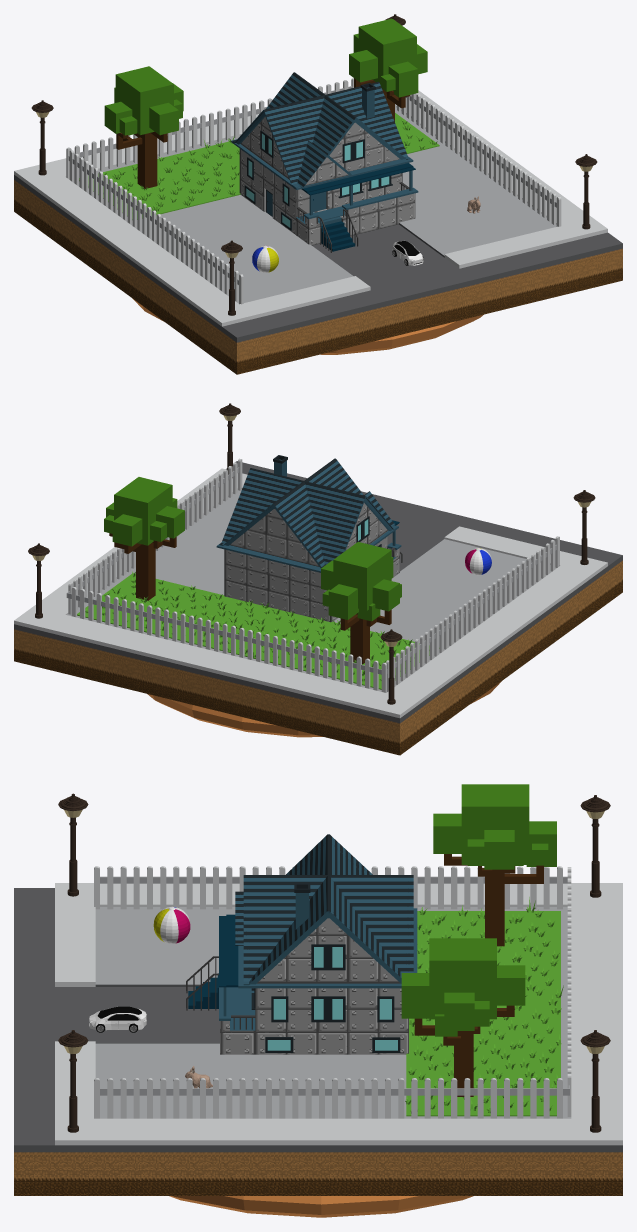
3 views of the same model, one above another, from view 1: azimuth 30°, elevation 25°; view 2: azimuth 150°, elevation 25°; view 3: azimuth 270°, elevation 25° (orthographic). The views are drawn at different scales.
Visible parts, largest first — view 1: Cube.004, Cube.078, UNDERGROUND_PIZZA, OBJRANDOM_BEACHBALL, VEHICLES_TESLA; view 2: Cube.004, Cube.078, UNDERGROUND_PIZZA, OBJRANDOM_BEACHBALL; view 3: Cube.004, Cube.078, UNDERGROUND_PIZZA, VEHICLES_TESLA, OBJRANDOM_BEACHBALL.
Boxes of the visible parts, x1,y1,x2,y2 form: Cube.004: (14, 14, 622, 374); Cube.078: (231, 72, 418, 252); UNDERGROUND_PIZZA: (132, 298, 483, 354); OBJRANDOM_BEACHBALL: (252, 245, 278, 272); VEHICLES_TESLA: (392, 240, 423, 265); Cube.004: (14, 403, 622, 755); Cube.078: (216, 455, 402, 622); UNDERGROUND_PIZZA: (147, 681, 501, 737); OBJRANDOM_BEACHBALL: (465, 548, 491, 575); Cube.004: (14, 784, 622, 1195); Cube.078: (186, 834, 417, 1054); UNDERGROUND_PIZZA: (169, 1196, 473, 1217); VEHICLES_TESLA: (89, 1006, 146, 1032); OBJRANDOM_BEACHBALL: (153, 906, 190, 943).
Size of the model in its own units: 4000 by 1812 by 4000.
38 materials, 5 textured.
